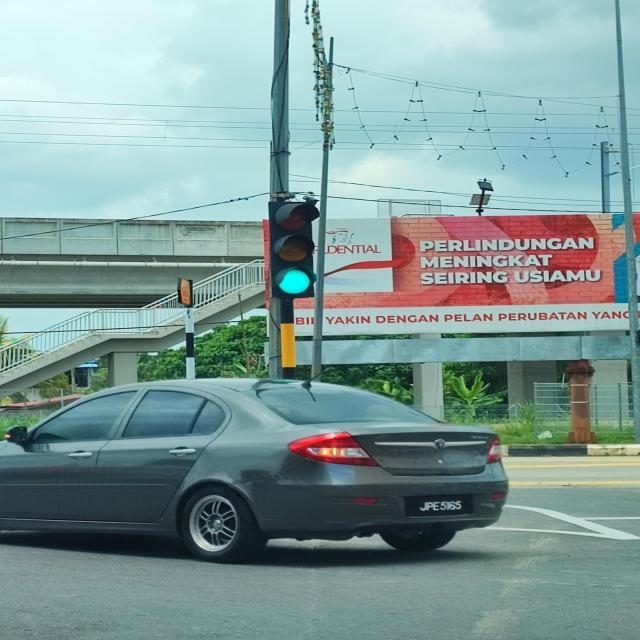green_light: (272, 200, 321, 296)
